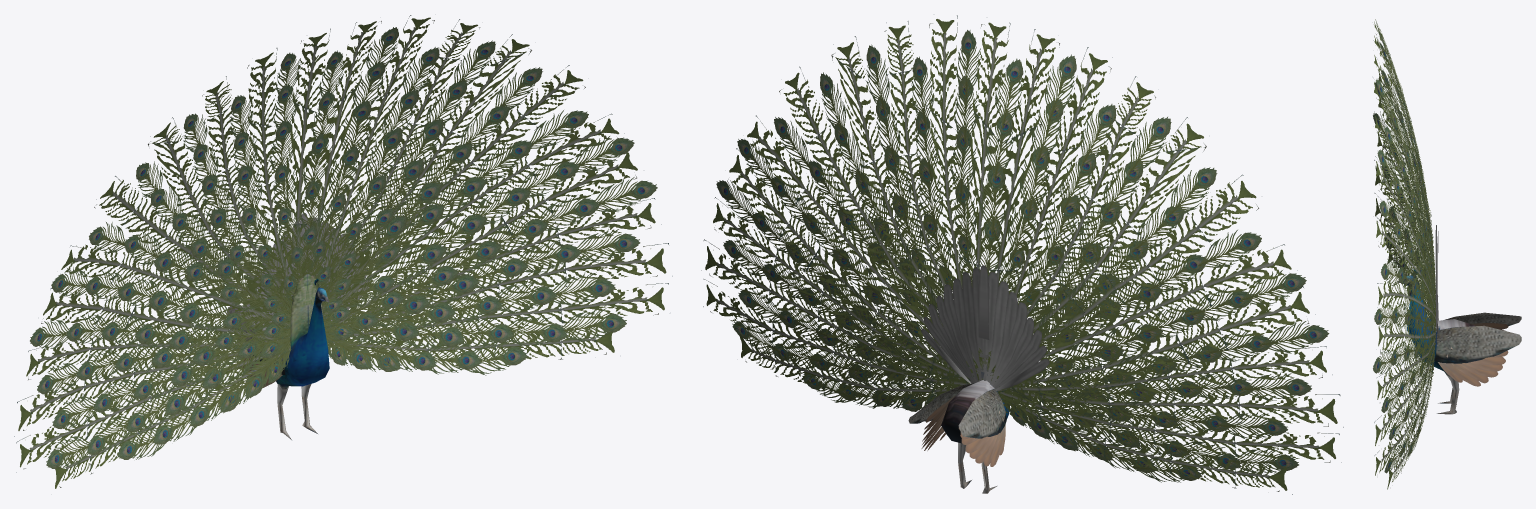
The model's file is StuffedPeacock.fbx.
The picture shows the model from 3 angles, left to right: view 1: azimuth 30°, elevation 25°; view 2: azimuth 150°, elevation 25°; view 3: azimuth 270°, elevation 25°; orthographic projection. The views are drawn at different scales.
Parts seen in each view (by area): view 1: 25_mesh1_1_16_16; view 2: 25_mesh1_1_16_16; view 3: 25_mesh1_1_16_16.
Boxes of the visible parts, x1=… form: 25_mesh1_1_16_16: x1=14, y1=15, x2=672, y2=488; 25_mesh1_1_16_16: x1=701, y1=15, x2=1343, y2=494; 25_mesh1_1_16_16: x1=1373, y1=19, x2=1521, y2=489.
Bounding box in the file's own units: 1.1 × 0.7044 × 0.2623.
